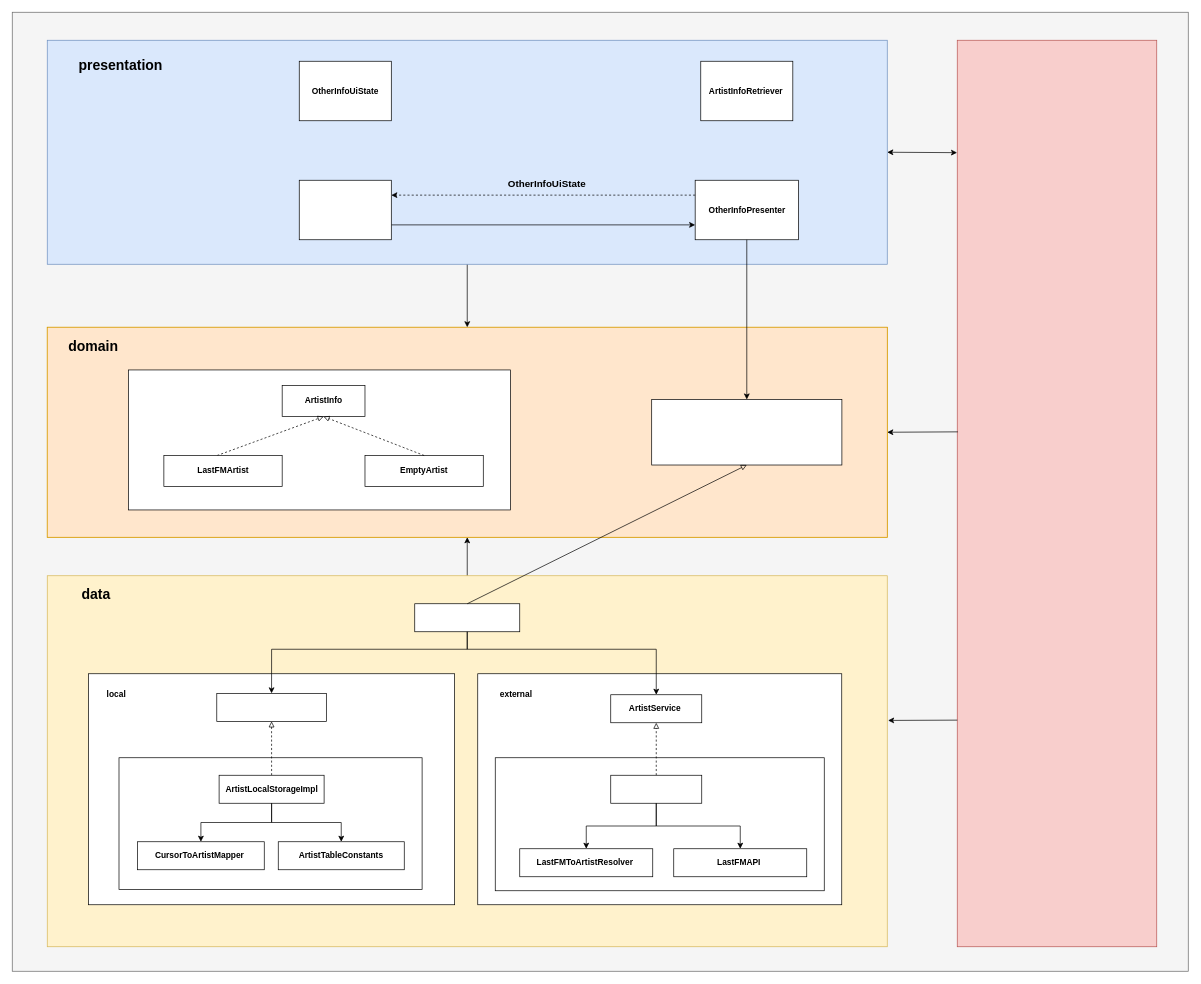
Some shapes in this 1201 by 984 pixel diagram are drawn without their labels. The shapes that lost their labels are listed below. From the top down, each one's box as (x1, y1, x2, y2) in pixels, then its label:
(299, 180, 391, 240): OtherInfoView
(651, 399, 842, 465): ArtistRepository
(957, 40, 1157, 947): MoreDetailsInjector
(414, 603, 520, 632): ArtistRepositoryImpl
(216, 693, 326, 721): ArtistLocalStorage
(610, 775, 702, 803): ArtistServiceImpl
